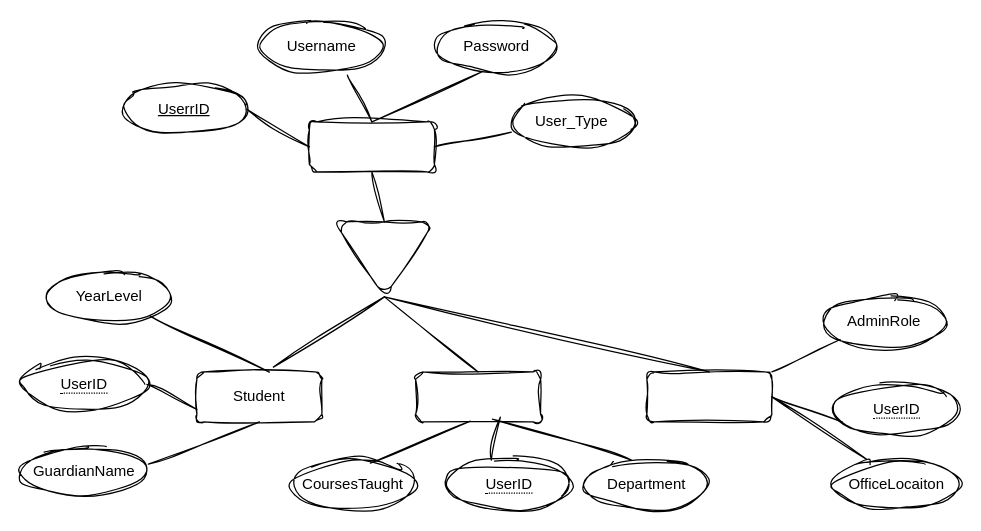
Some shapes in this 981 by 531 pixel diagram are drawn without their labels. The box of each missing label's shape, as (x1, y1, x2, y2) in pixels:
Adminstrator: (646, 371, 772, 422)
Faculty: (414, 371, 541, 422)
isA (o): (333, 221, 434, 297)
User: (308, 121, 434, 172)
